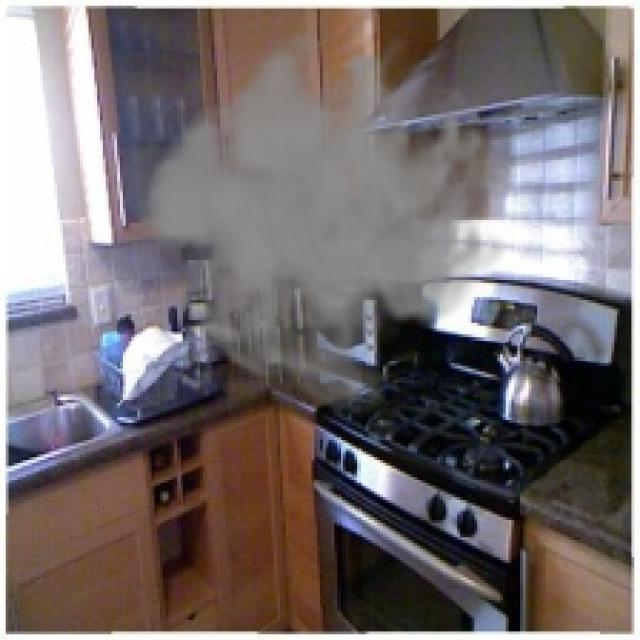Smoke: (134, 11, 509, 420)
